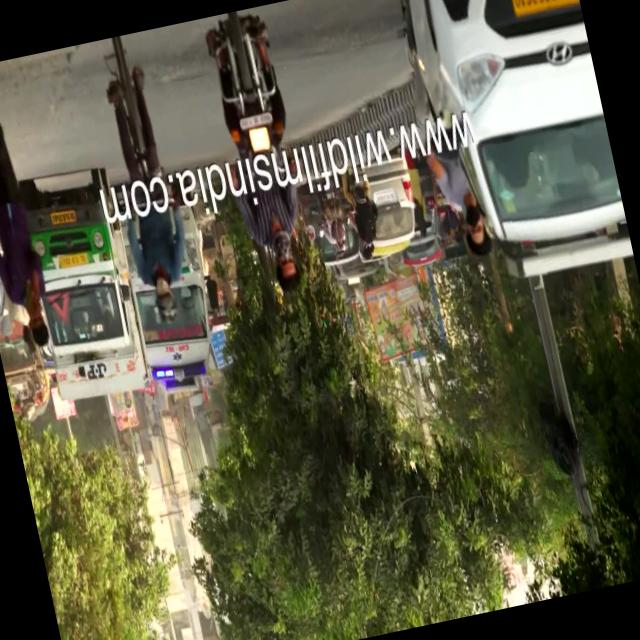ambulance: (120, 177, 219, 390)
